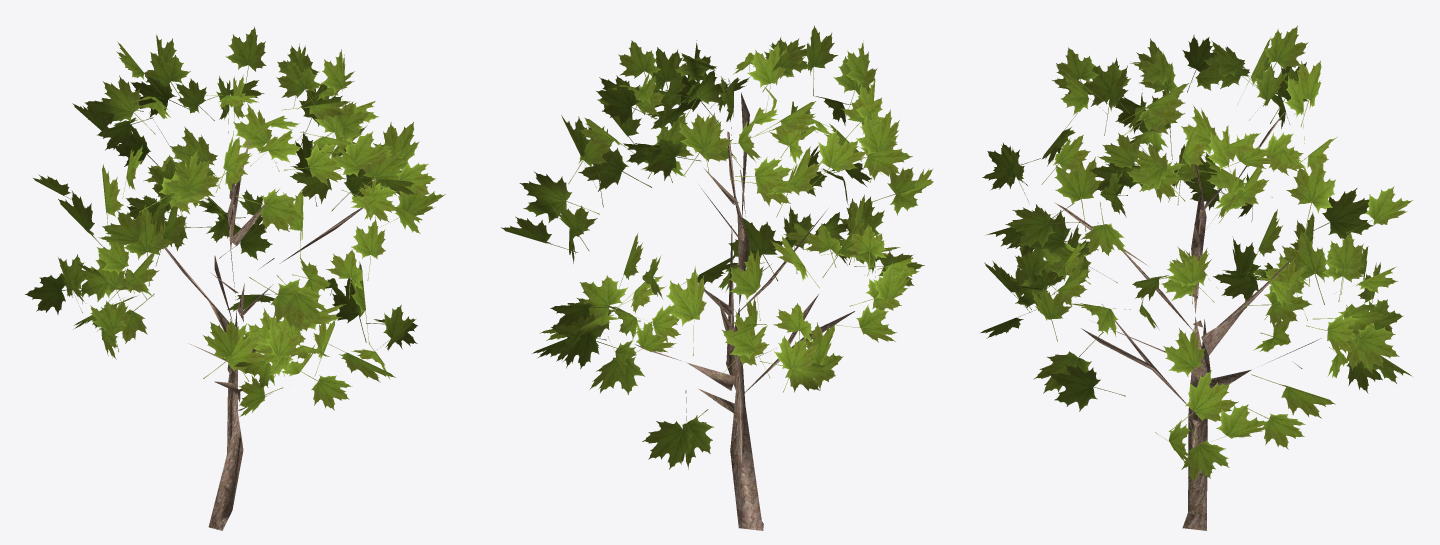
The model's file is tree_maple_far.glb.
The picture shows the model from 3 angles, left to right: view 1: azimuth 30°, elevation 25°; view 2: azimuth 150°, elevation 25°; view 3: azimuth 270°, elevation 25°; orthographic projection. The views are drawn at different scales.
Visible parts, largest first — view 1: leaf, trunk; view 2: leaf, trunk; view 3: leaf, trunk.
Boxes of the visible parts, x1=… form: leaf: x1=25, y1=26, x2=445, y2=416; trunk: x1=149, y1=113, x2=363, y2=530; leaf: x1=501, y1=25, x2=933, y2=469; trunk: x1=635, y1=78, x2=854, y2=530; leaf: x1=980, y1=25, x2=1412, y2=484; trunk: x1=1054, y1=112, x2=1321, y2=530.
Size of the model in its own units: 8.85 by 9.95 by 8.43.
Materials: 2 (2 with a texture image).
